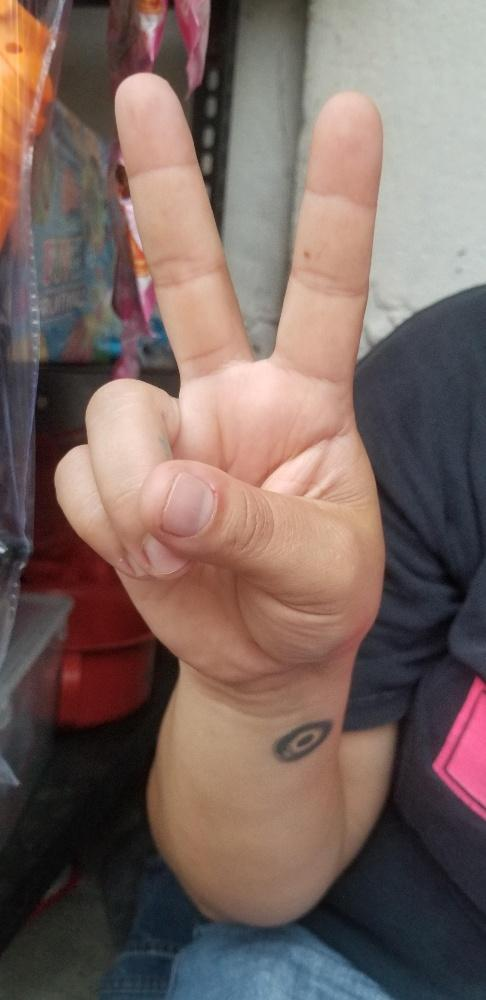v: (52, 70, 387, 674)
